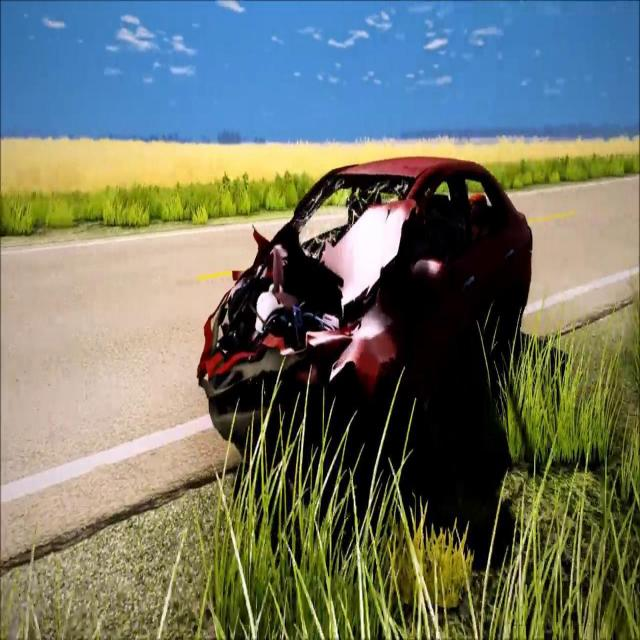accident: (193, 153, 537, 451)
